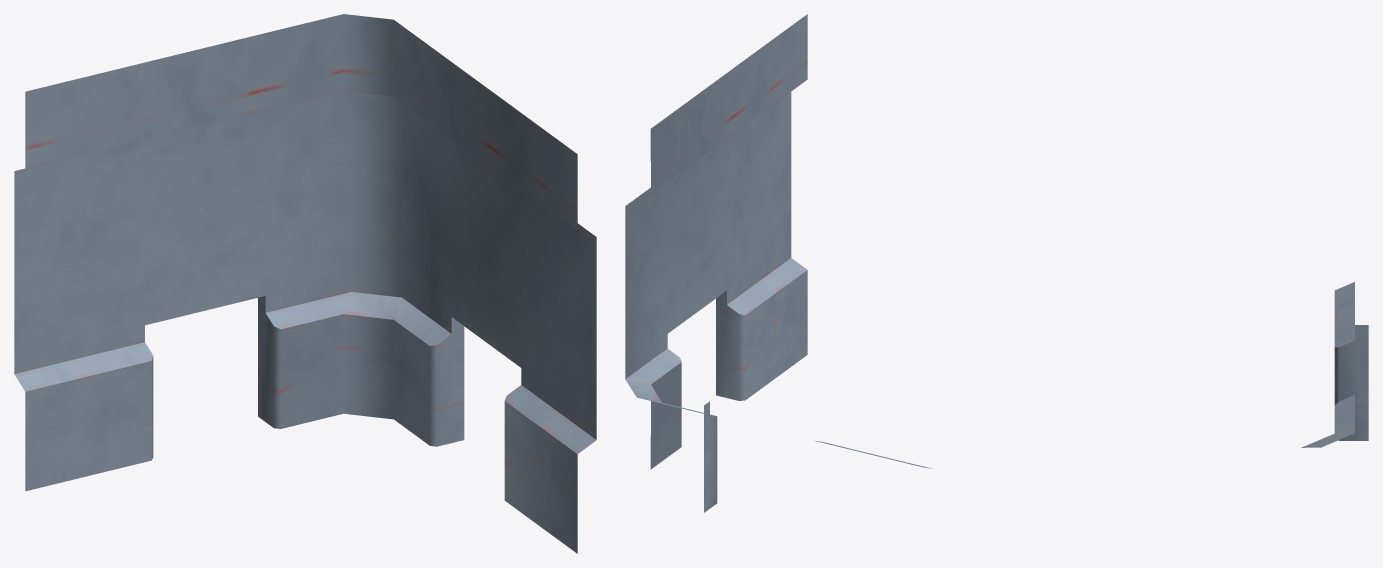
File: Wall_MTNDoorCorner_C_1_F.glb
3 views of the same model, side by side, from view 1: azimuth 30°, elevation 25°; view 2: azimuth 150°, elevation 25°; view 3: azimuth 270°, elevation 25° (orthographic). The views are drawn at different scales.
Parts seen in each view (by area): view 1: Wall_MTNDoorCorner_C_1_F; view 2: Wall_MTNDoorCorner_C_1_F; view 3: Wall_MTNDoorCorner_C_1_F.
Boxes of the visible parts, box(x1,y1,x2,y2) form: Wall_MTNDoorCorner_C_1_F: box(14, 14, 596, 553); Wall_MTNDoorCorner_C_1_F: box(625, 14, 932, 512); Wall_MTNDoorCorner_C_1_F: box(1301, 282, 1368, 447).
Bounding box in the file's own units: 6 × 6 × 6.
1 material, 1 textured.
